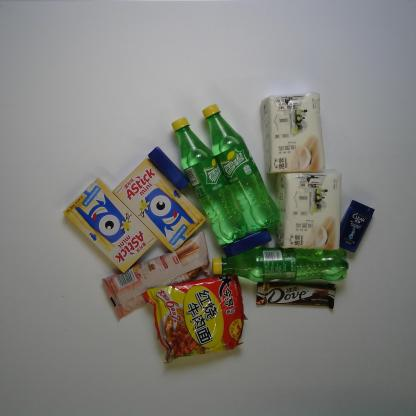Chocolate: (253, 280, 337, 311)
Dessert: (99, 232, 218, 323), (109, 152, 208, 254), (62, 175, 158, 273)
Drink: (200, 104, 283, 233), (169, 117, 247, 245), (209, 244, 351, 286)
Instant Noodles: (140, 272, 250, 364)
Personal Hygiene: (336, 195, 382, 261), (218, 224, 272, 262), (146, 146, 190, 192)
Tissue: (274, 166, 350, 252), (261, 90, 331, 174)
